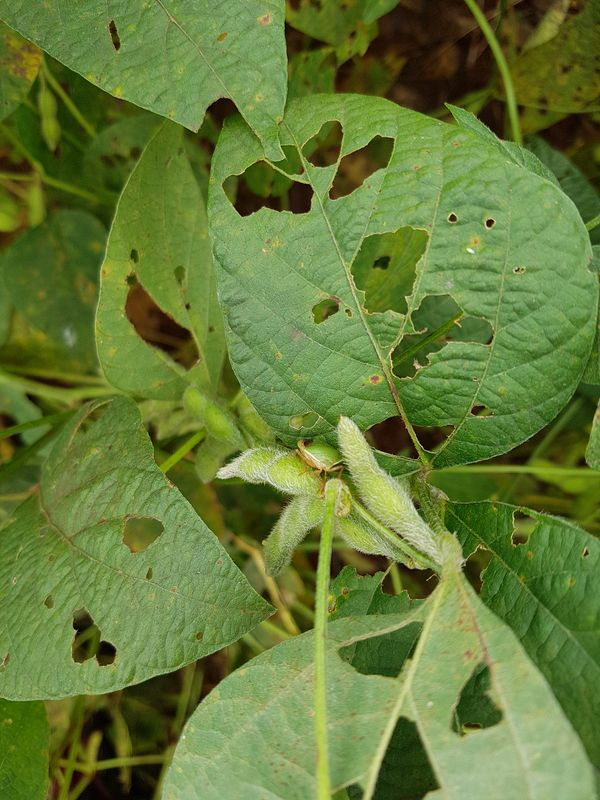Edessa_meditabunda: (270, 423, 370, 501)
